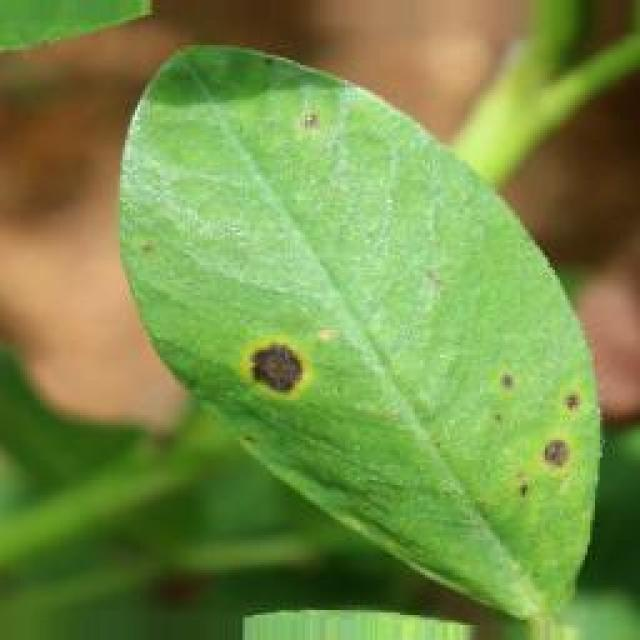Sigatoka: (473, 352, 599, 521), (230, 336, 325, 429), (281, 84, 349, 181)
